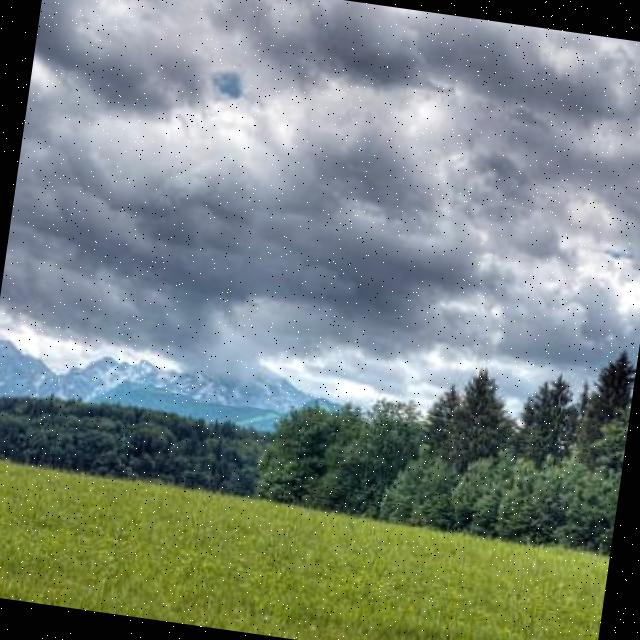Ns: (3, 1, 640, 372)
